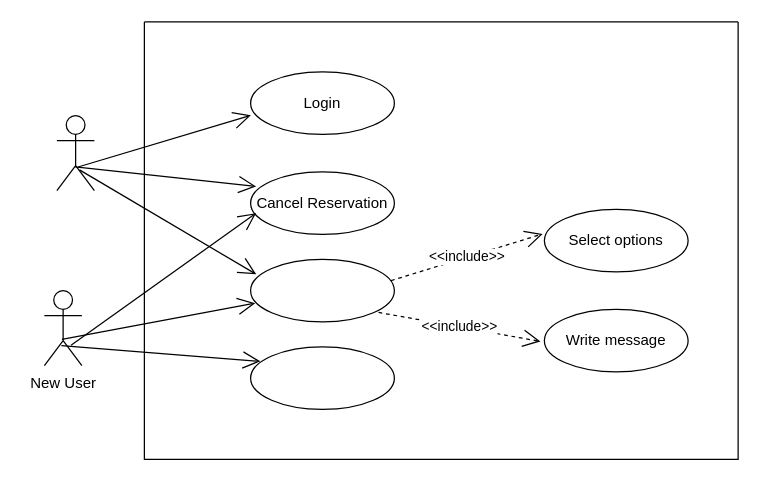
This 760x481 diagram has some shape labels left out. The centre of each missing label's shape, as x and y in pixels:
Registered User: pixel 75 152
Reserve: pixel 321 290
Sign-up: pixel 321 377
